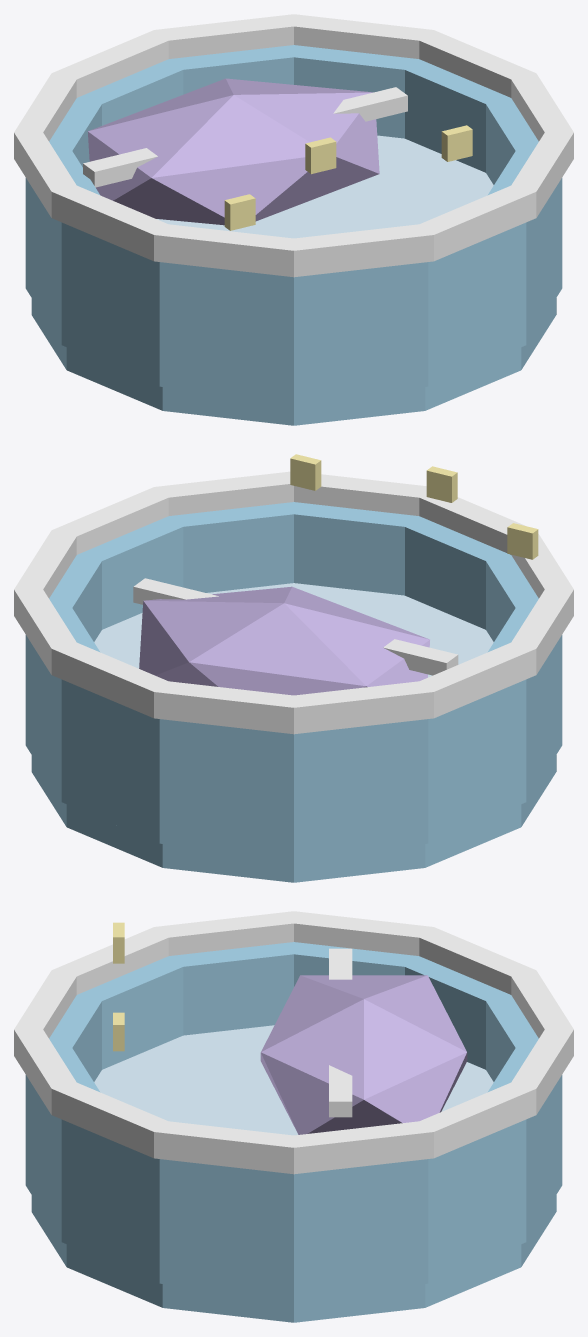
Rendered from CatCafe_Item_FoodBowl_Sleepover.glb.
3 renders of one model, top to bottom at view 1: azimuth 30°, elevation 25°; view 2: azimuth 150°, elevation 25°; view 3: azimuth 270°, elevation 25°, orthographic.
Visible parts, largest first — view 1: CatCafe_Item_FoodBowl_Sleepover; view 2: CatCafe_Item_FoodBowl_Sleepover; view 3: CatCafe_Item_FoodBowl_Sleepover.
Part boxes in pixels (x1,y1,x2,y2): CatCafe_Item_FoodBowl_Sleepover: [14, 14, 573, 425]; CatCafe_Item_FoodBowl_Sleepover: [14, 454, 573, 882]; CatCafe_Item_FoodBowl_Sleepover: [14, 911, 573, 1322].
Size of the model in its own units: 0.96 by 0.475 by 0.96.
Materials: 1 (1 with a texture image).
